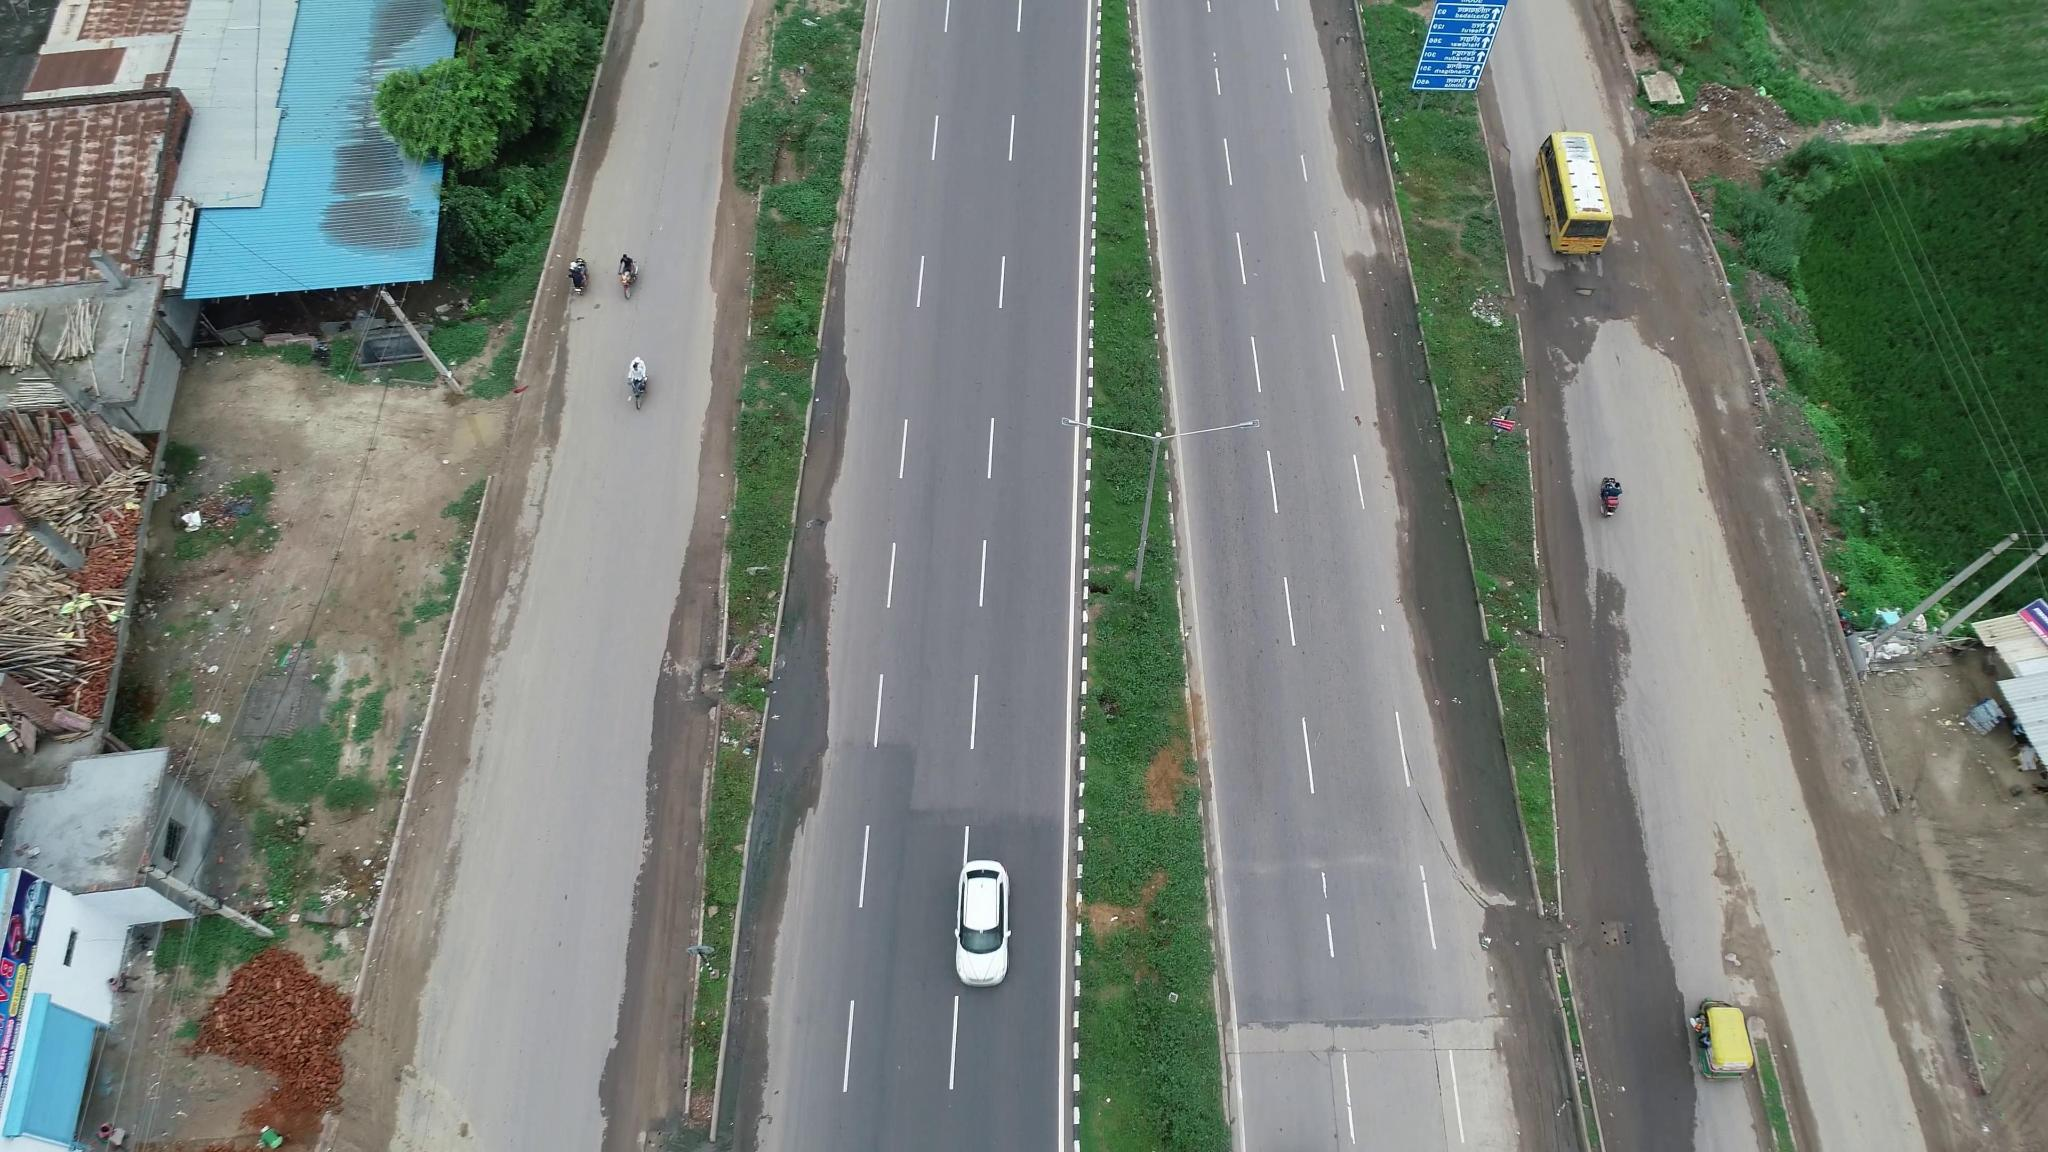Muddy_road: (596, 857, 692, 1144)
Potholes: (1571, 274, 1622, 328)
Waterlogging: (762, 623, 828, 833)
